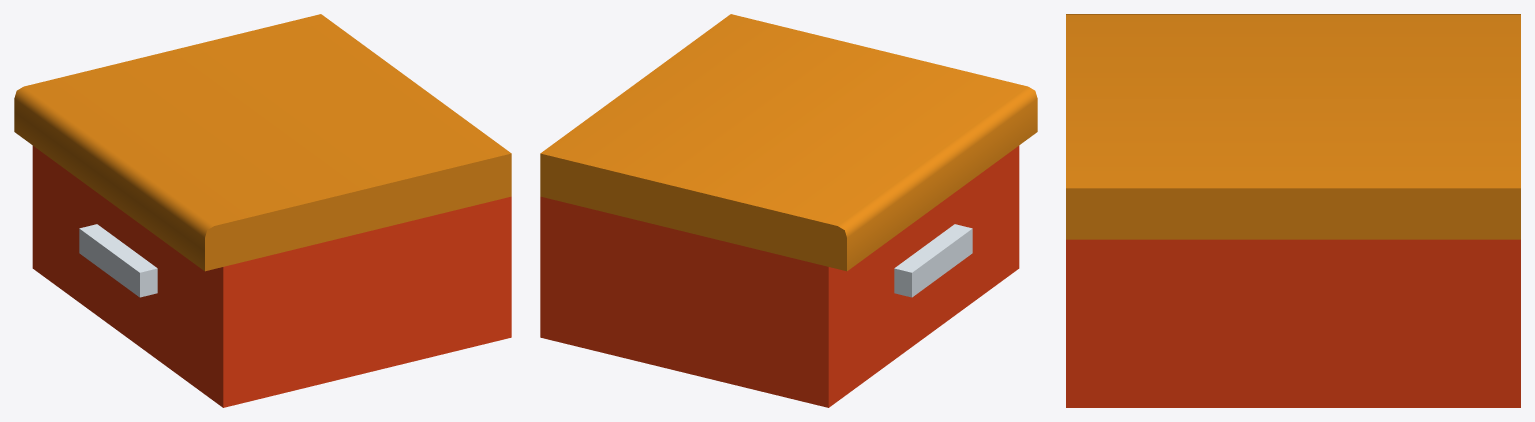
File: ban 1.FBX
3 renders of one model, left to right at view 1: azimuth 30°, elevation 25°; view 2: azimuth 150°, elevation 25°; view 3: azimuth 270°, elevation 25°, orthographic. The views are drawn at different scales.
Visible parts, largest first — view 1: Object242; view 2: Object242; view 3: Object242.
Boxes of the visible parts, x1,y1,x2,y2 form: Object242: [14, 14, 511, 407]; Object242: [540, 14, 1037, 407]; Object242: [1066, 14, 1520, 407].
Bounding box in the file's own units: 2.21 × 1.27 × 2.38.
